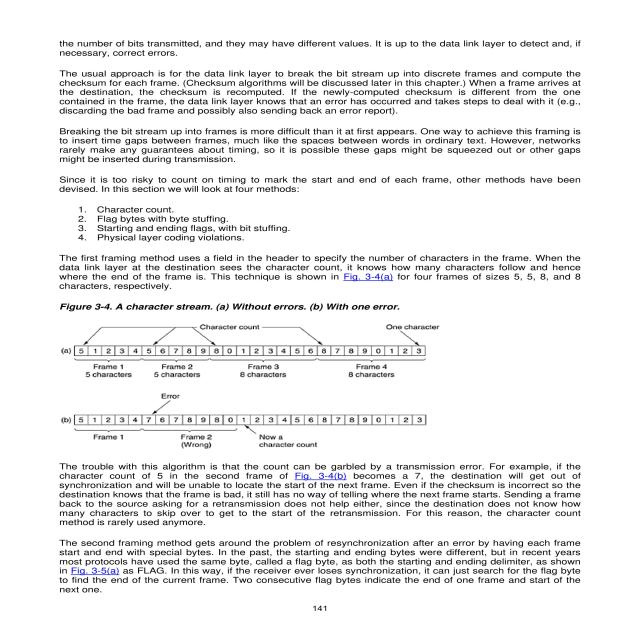diagram: (25, 295, 472, 455)
